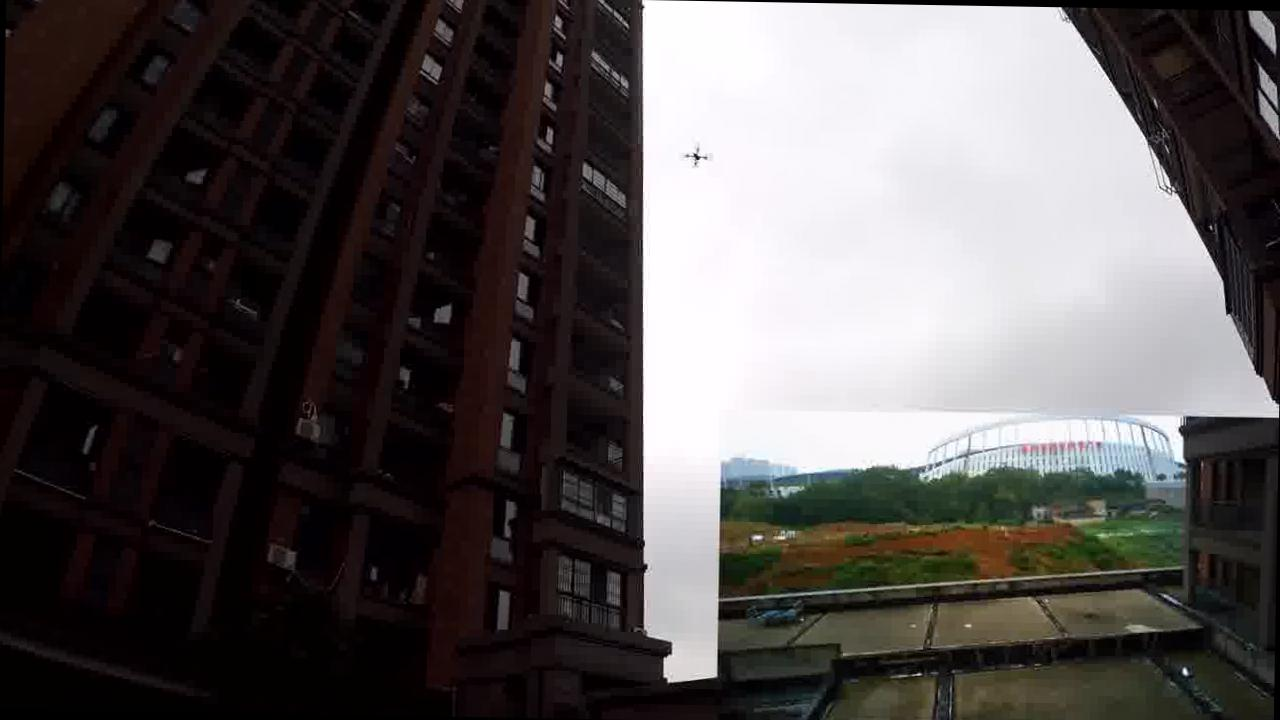drone: (678, 140, 712, 168)
